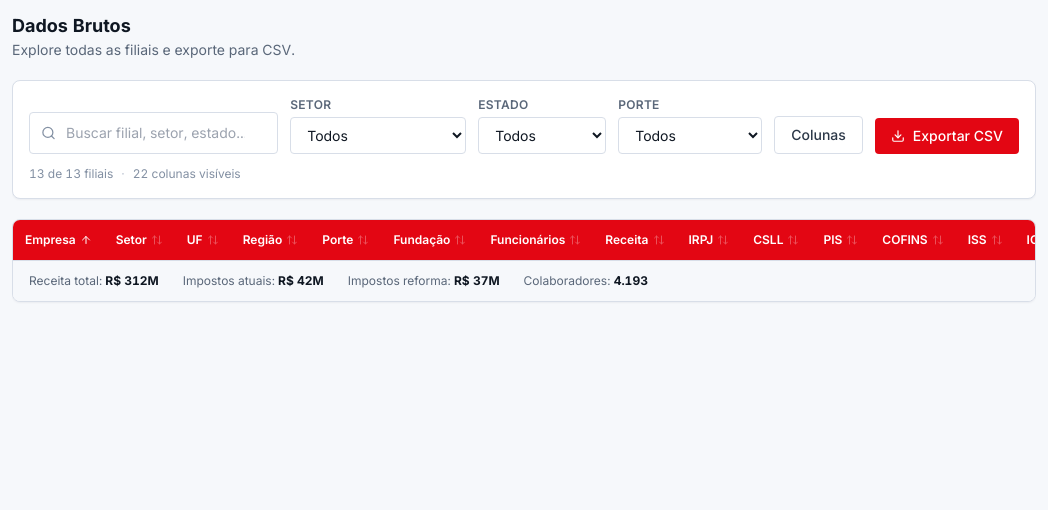
Scenario: RawDataPage › shows correct column count label after hiding a column
Click the button "Colunas": {"x": 818, "y": 135} [774,116,863,154]
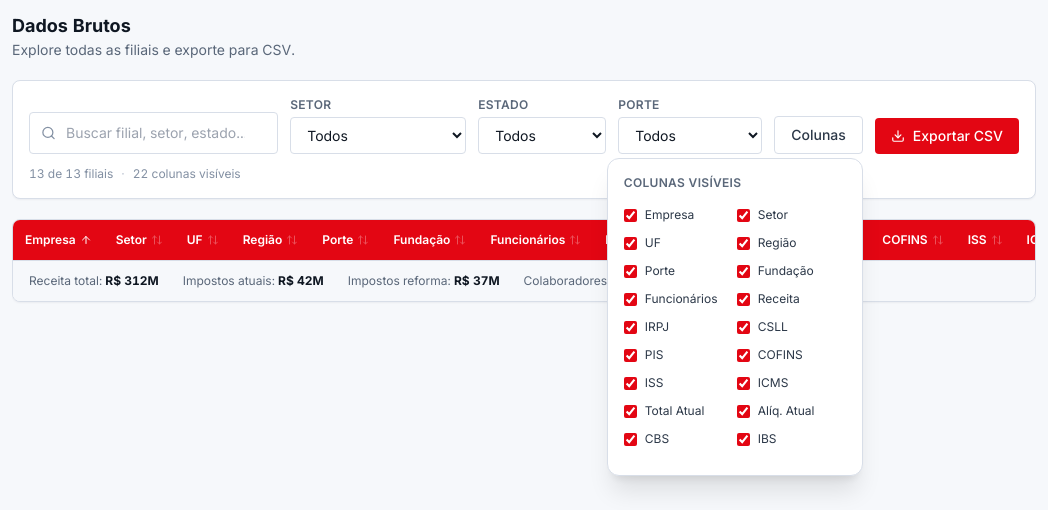
Click the checkbox labelled "Empresa": {"x": 630, "y": 215} [624,208,637,222]
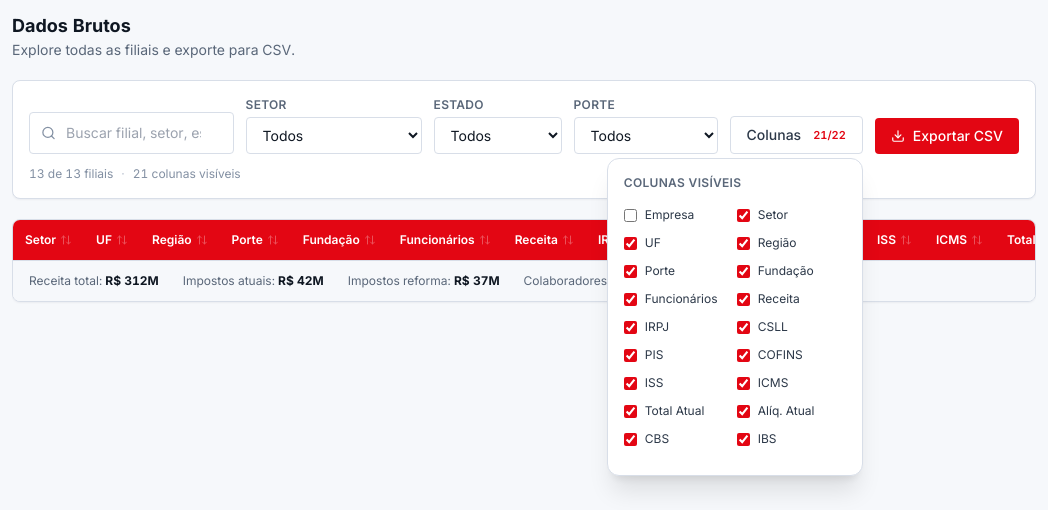
Expected: the text "21/22" is shown, [813,125,846,145]
